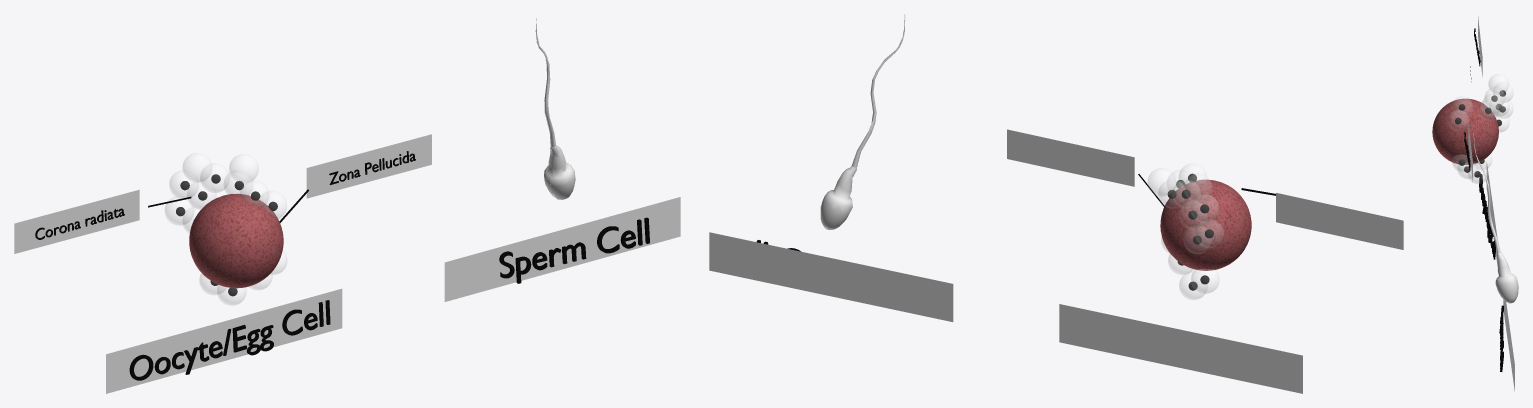
File: eggsperm.gltf
3 renders of one model, left to right at view 1: azimuth 30°, elevation 25°; view 2: azimuth 150°, elevation 25°; view 3: azimuth 270°, elevation 25°, orthographic. The views are drawn at different scales.
Visible parts, largest first — view 1: Plane.001, Plane.038, Object_2.009, Plane.042, Plane.040, Text.019, Text, Sperm_Sperm_0.008, Object_2.052, Object_2.054, Object_2.025, Object_2.056 (+5 smaller); view 2: Plane.001, Plane.038, Object_2.009, Plane.040, Plane.042, Sperm_Sperm_0.008, Object_2.052, Object_2.060, Object_2.056, Object_2.025, Object_2.021, Object_2.023 (+2 smaller); view 3: Object_2.009, Sperm_Sperm_0.008, Text.019, Plane.001, Object_2.025, Object_2.018, Object_2.050, Object_2.052, Object_2.010, Object_2.023, Object_2.054, Plane.038 (+11 smaller).
Part boxes in pixels (bbox=[...]): Plane.001: bbox=[444, 197, 680, 301]; Plane.038: bbox=[106, 288, 342, 393]; Object_2.009: bbox=[189, 193, 283, 288]; Plane.042: bbox=[14, 189, 139, 253]; Plane.040: bbox=[306, 134, 431, 198]; Text.019: bbox=[129, 300, 330, 380]; Text: bbox=[499, 217, 649, 283]; Sperm_Sperm_0.008: bbox=[535, 14, 575, 199]; Object_2.052: bbox=[182, 153, 211, 182]; Object_2.054: bbox=[200, 163, 229, 192]; Object_2.025: bbox=[229, 154, 258, 182]; Object_2.056: bbox=[169, 170, 198, 198]; Plane.001: bbox=[709, 232, 953, 321]; Plane.038: bbox=[1059, 304, 1302, 393]; Object_2.009: bbox=[1160, 179, 1251, 270]; Plane.040: bbox=[1007, 129, 1134, 186]; Plane.042: bbox=[1276, 193, 1403, 249]; Sperm_Sperm_0.008: bbox=[820, 14, 905, 229]; Object_2.052: bbox=[1184, 173, 1212, 201]; Object_2.060: bbox=[1195, 220, 1223, 247]; Object_2.056: bbox=[1191, 195, 1219, 222]; Object_2.025: bbox=[1148, 168, 1175, 196]; Object_2.021: bbox=[1191, 269, 1219, 293]; Object_2.023: bbox=[1179, 271, 1207, 299]; Object_2.009: bbox=[1432, 98, 1498, 164]; Sperm_Sperm_0.008: bbox=[1473, 133, 1518, 303]; Text.019: bbox=[1479, 174, 1495, 259]; Plane.001: bbox=[1503, 300, 1514, 391]; Object_2.025: bbox=[1482, 94, 1502, 114]; Object_2.018: bbox=[1448, 110, 1468, 130]; Object_2.050: bbox=[1478, 100, 1498, 120]; Object_2.052: bbox=[1488, 74, 1508, 94]; Object_2.010: bbox=[1452, 96, 1472, 115]; Object_2.023: bbox=[1468, 163, 1488, 183]; Object_2.054: bbox=[1485, 88, 1504, 106]; Plane.038: bbox=[1486, 161, 1497, 267].
Bounding box in the file's own units: 27.63 × 10.91 × 4.23.
Materials: 8 (2 with a texture image).
